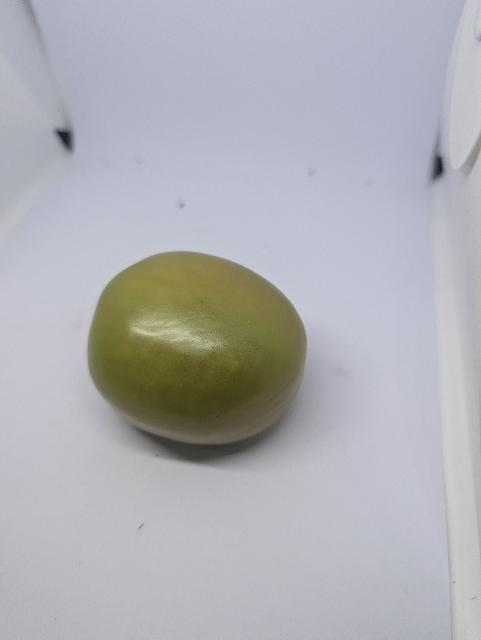green: (85, 247, 314, 450)
